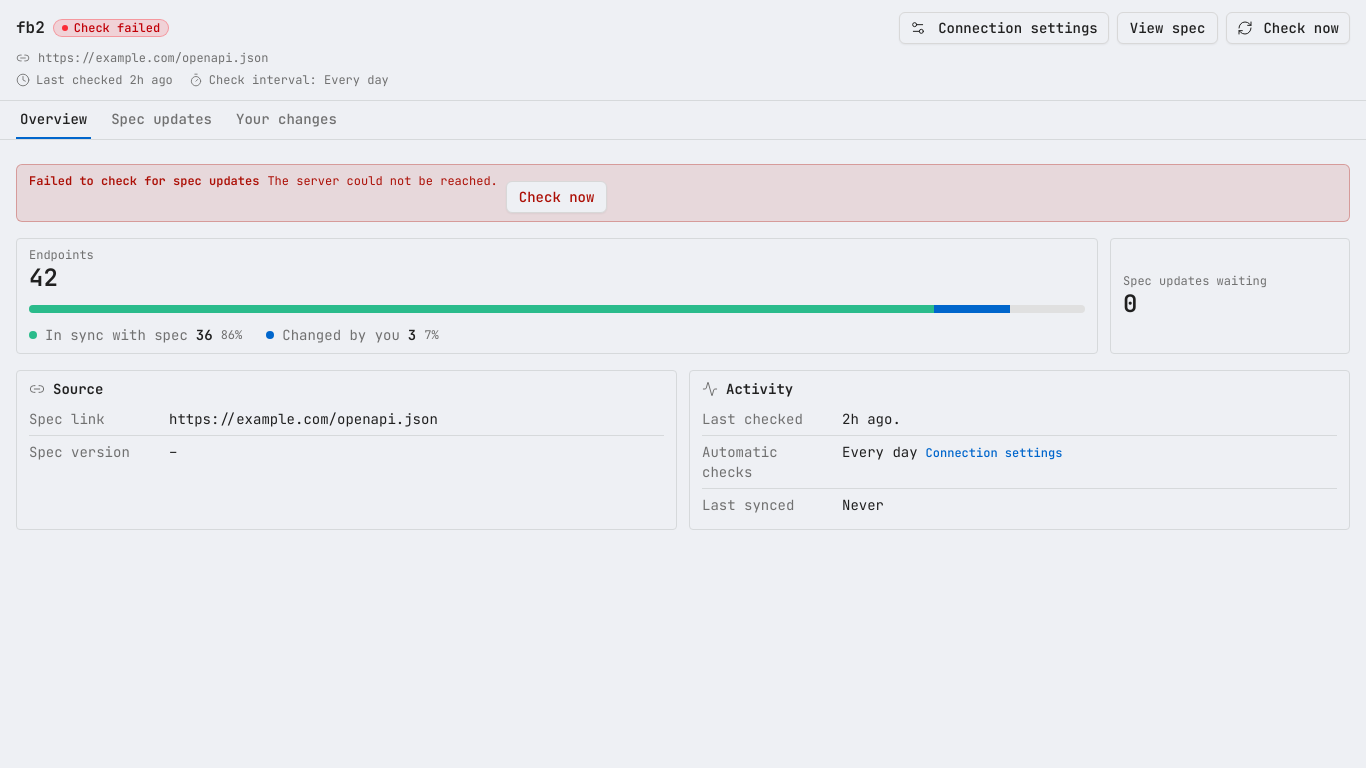
it: OpenApiSyncTab › failure banner › spec_updates_shows_the_failure_banner_and_the_empty_text
The width and height of the screenshot is (1366, 768).
Click the tab "Spec updates".
click(162, 122)  # box 107,105 -> 216,139
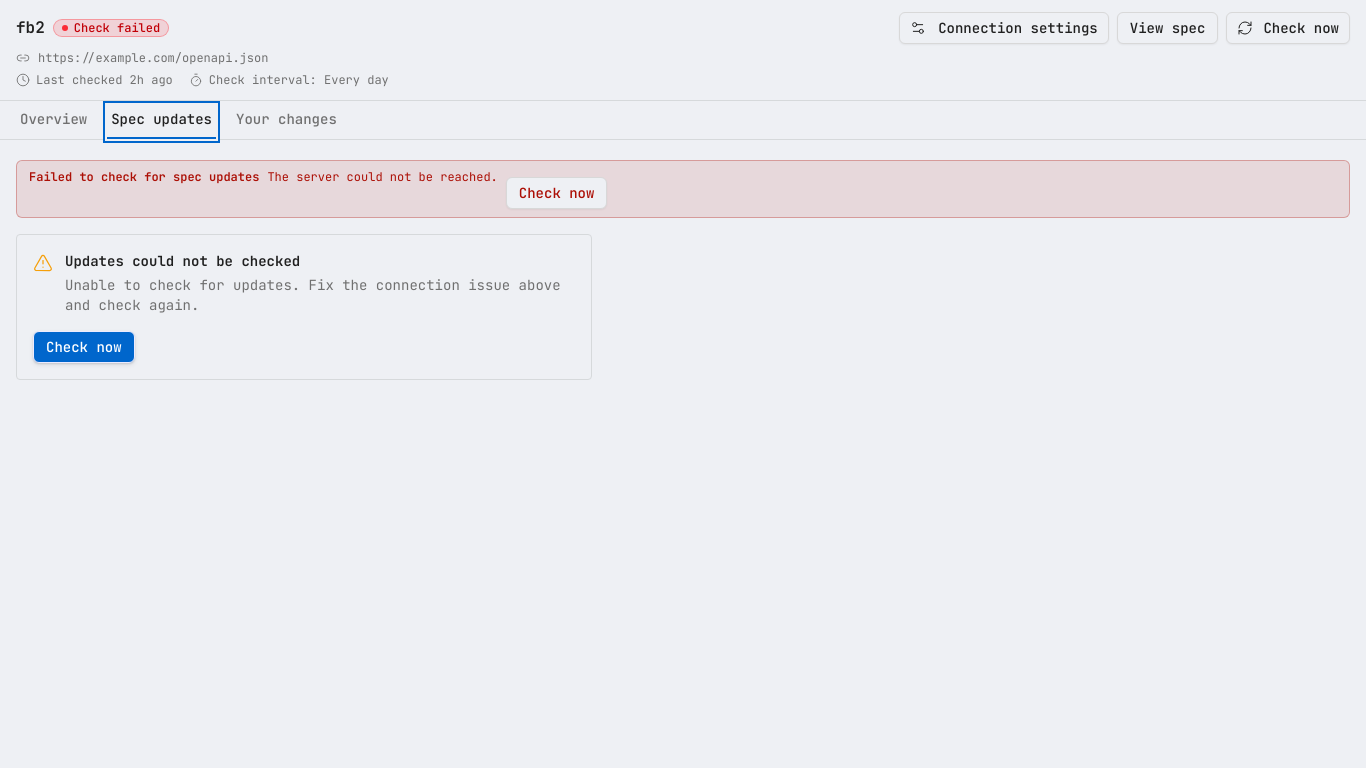
Expected: the message shows "Failed to check for spec updates", 29,169 -> 259,185
Now the text "Unable to check for updates. Fix the connection issue above and check again." is shown, box 65,275 -> 575,315
